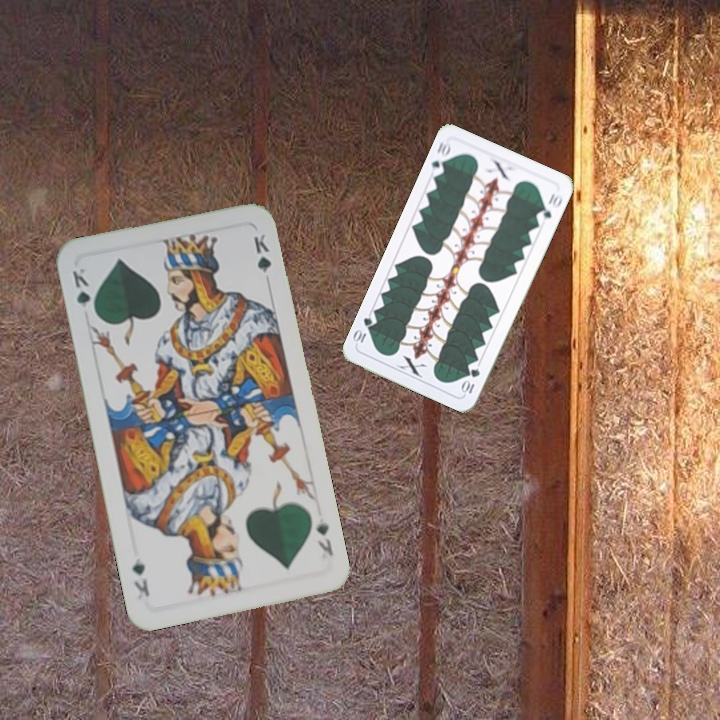G10: (427, 138, 454, 178), (458, 364, 483, 396)
GK: (68, 264, 99, 319), (312, 518, 336, 558)
